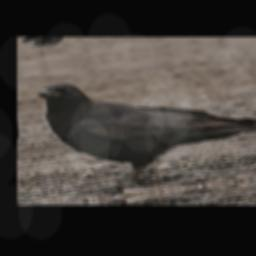Crow: (34, 55, 256, 198)
